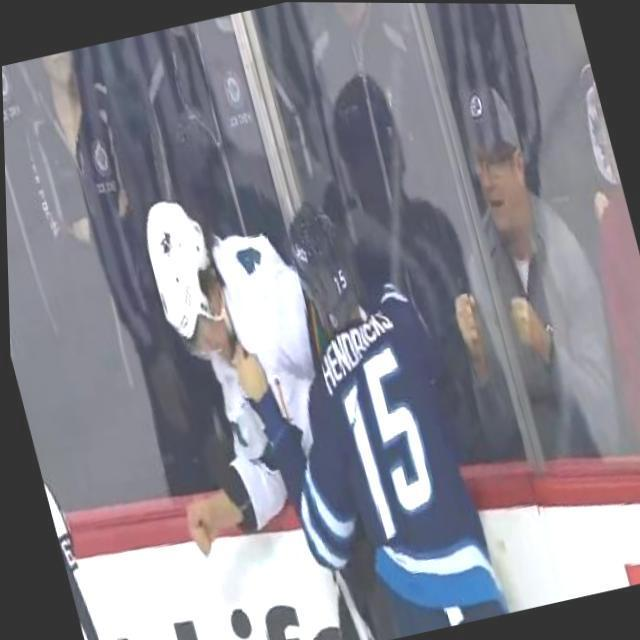fight: (99, 146, 502, 640)
